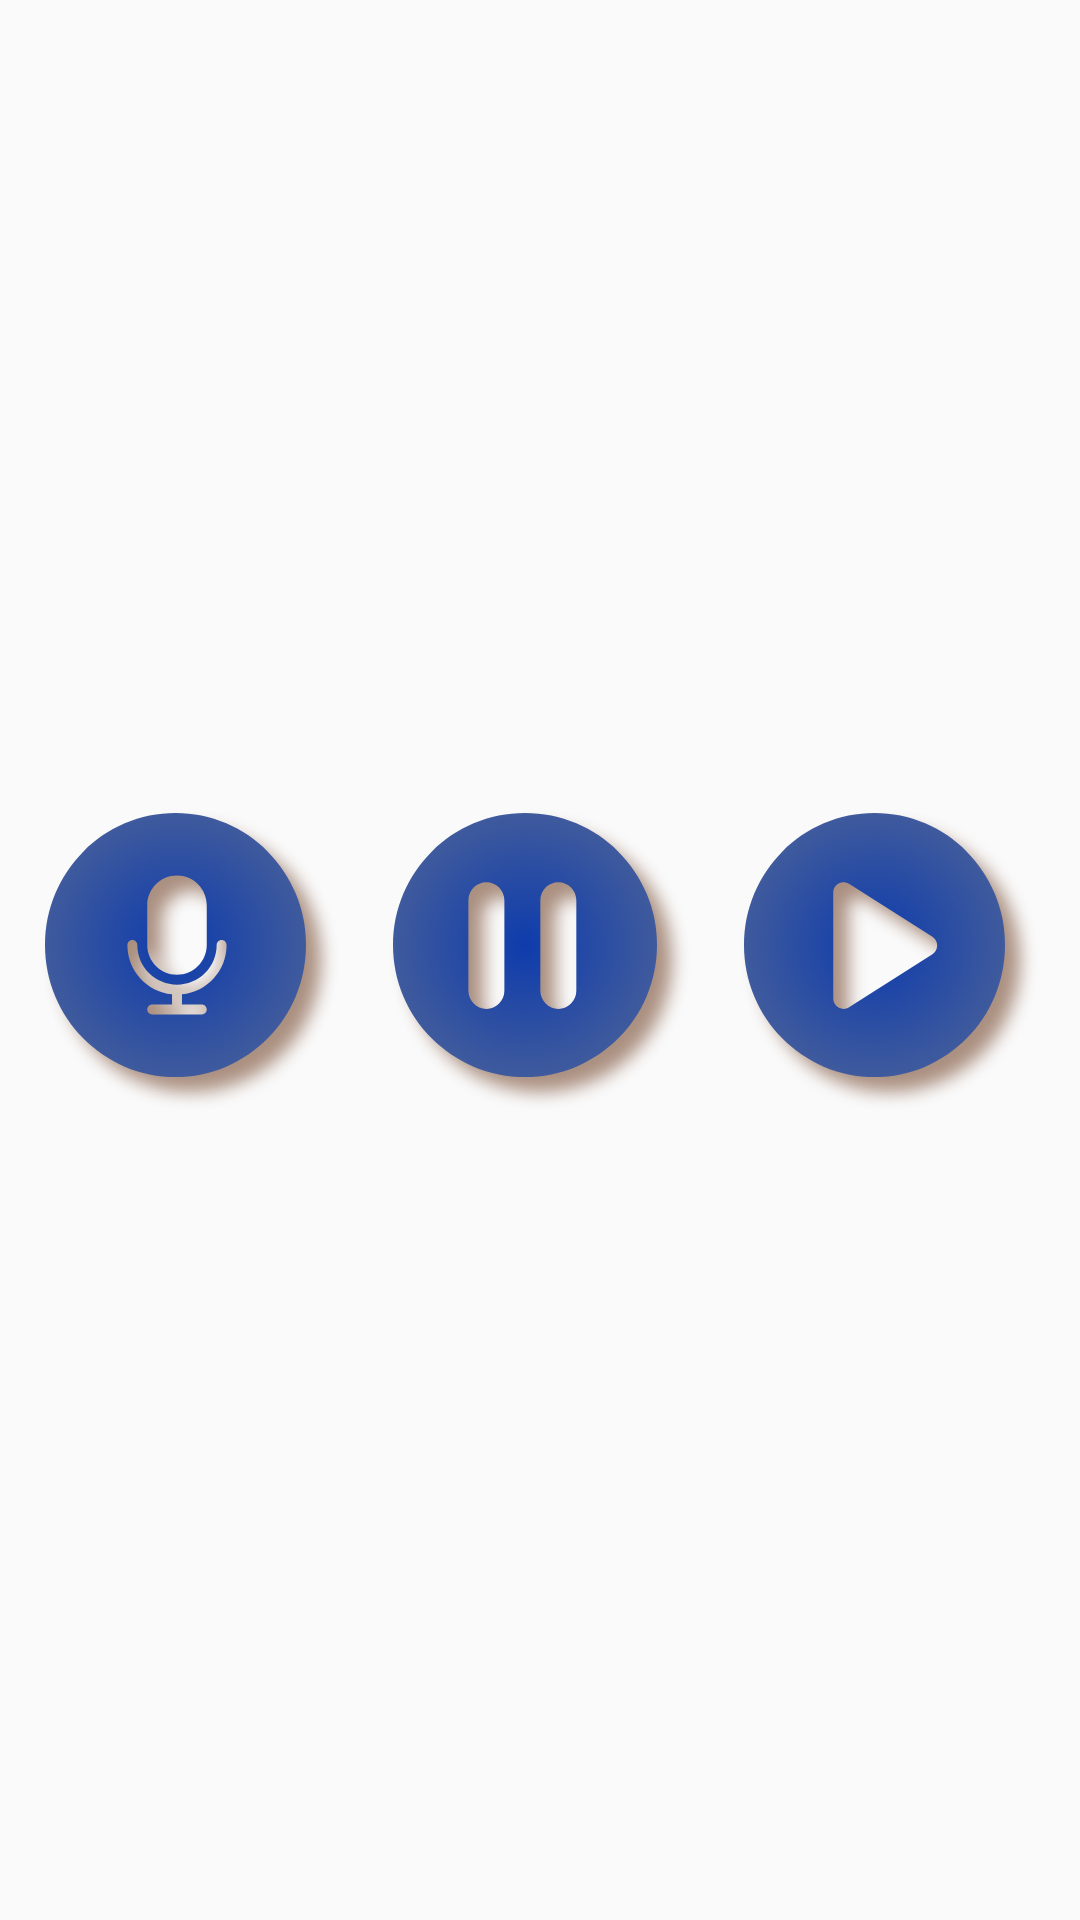

Icons on this 1080w x 1920h Android screen, each with the point to tap as (x,y):
pause but: (536,956)
play but: (885,956)
rec but: (186,956)
